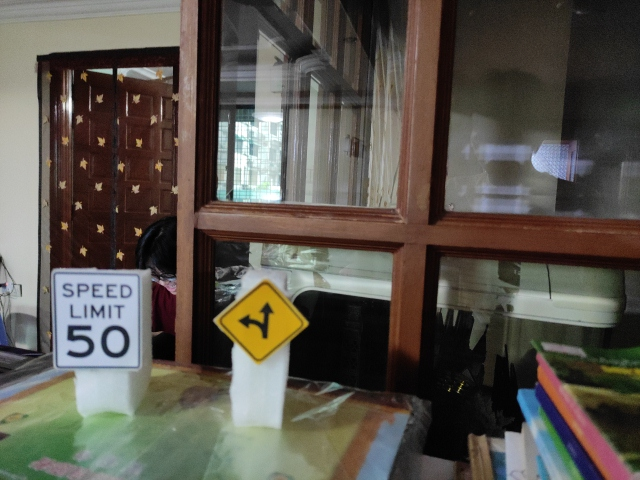Speed Limit 50: (51, 268, 144, 373)
Straight Or Left Sign: (216, 277, 308, 365)
